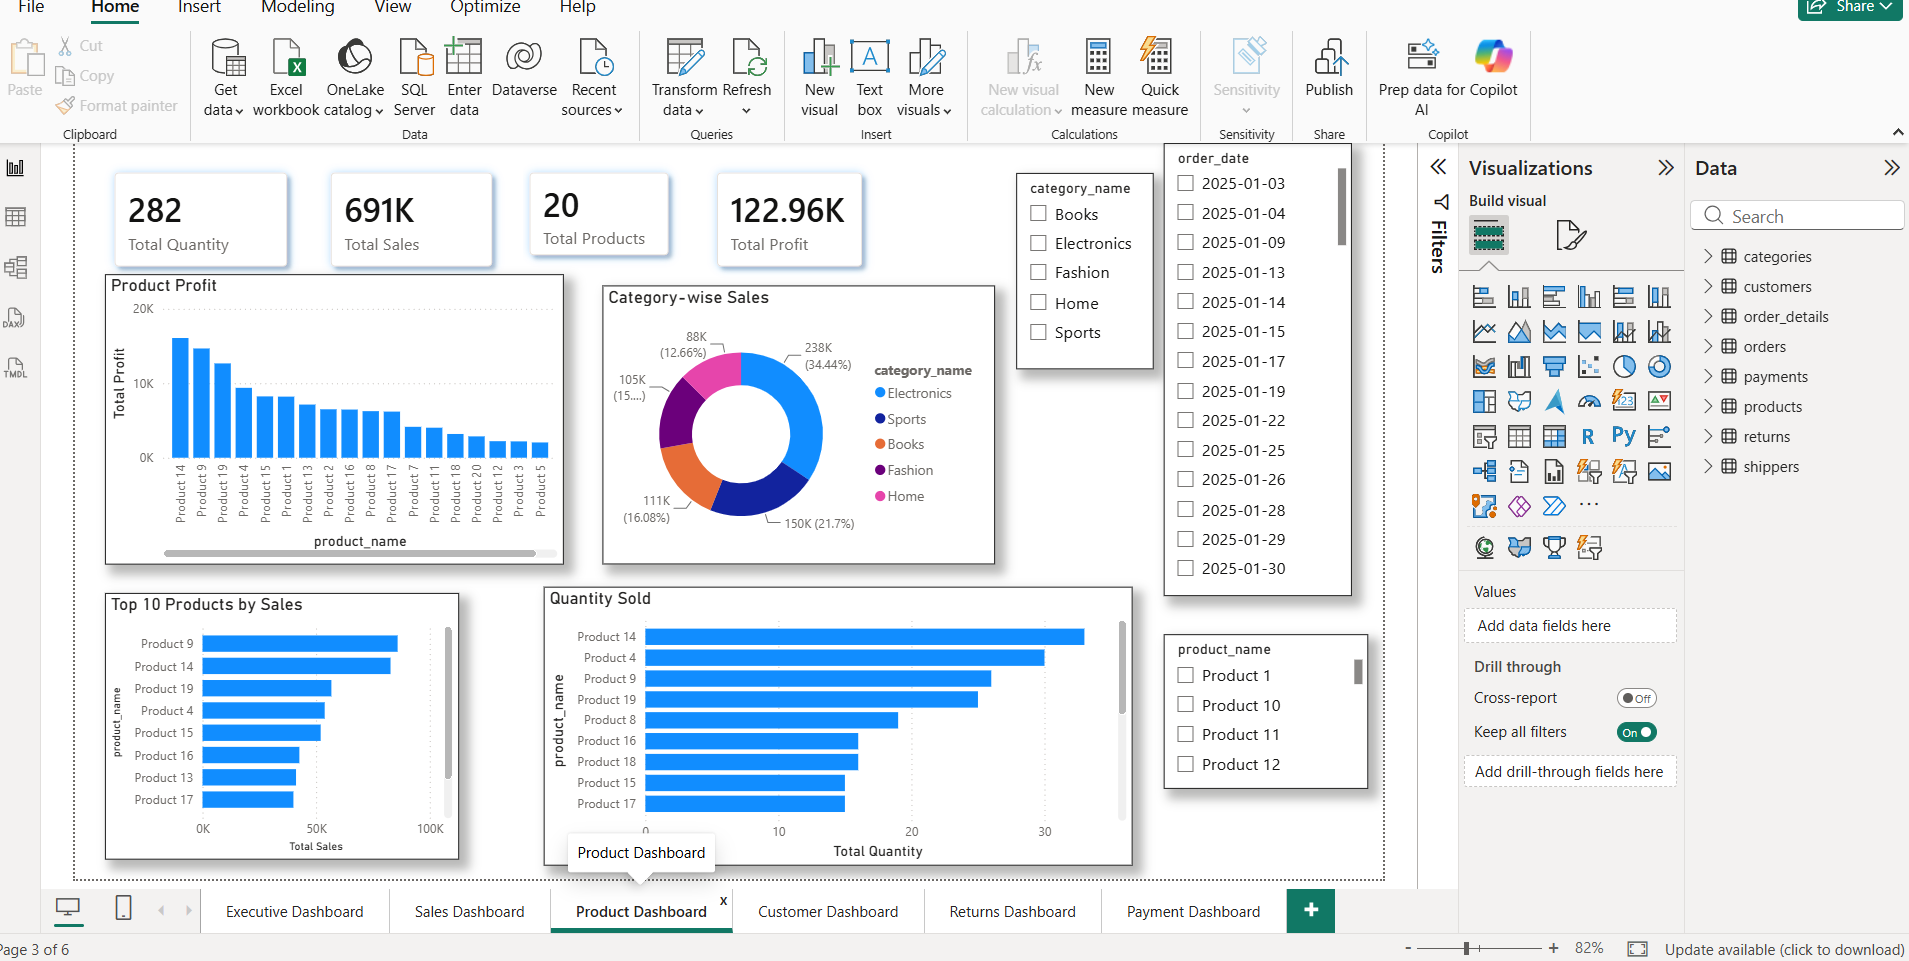

The dashboard page shown, as its layout file describes it:
{"tool":"powerbi","page":{"name":"Product Dashboard","canvas":[1280,720],"ordinal":2},"visuals":[{"type":"cardVisual","fields":{"Data":["categories.Total Quantity"]},"box":[9.6,0,227.8,150.9],"z":0},{"type":"cardVisual","fields":{"Data":["categories.Total Profit"]},"box":[599.7,0,200.3,150.9],"z":1000},{"type":"cardVisual","fields":{"Data":["categories.Total Products"]},"box":[415.8,0,194.9,140],"z":2000},{"type":"cardVisual","fields":{"Data":["categories.Total Sales"]},"box":[220.9,0,216.8,150.9],"z":3000},{"type":"clusteredBarChart","title":"Top 10 Products by Sales","fields":{"Category":["products.product_name"],"Y":["categories.Total Sales"]},"box":[29.3,440.2,346.1,260.5],"z":4000},{"type":"clusteredColumnChart","title":"Product Profit","fields":{"Category":["products.product_name"],"Y":["categories.Total Profit"]},"box":[29.3,128.4,448.8,283.7],"z":5000},{"type":"barChart","title":"Quantity Sold","fields":{"Category":["products.product_name"],"Y":["categories.Total Quantity"]},"box":[458.3,433.6,576.3,273.1],"z":6000},{"type":"donutChart","title":"Category-wise Sales","fields":{"Category":["categories.category_name"],"Y":["categories.Total Sales"]},"box":[516,139.4,384,272.7],"z":7000},{"type":"slicer","fields":{"Values":["categories.category_name"]},"box":[920.8,29.3,134.5,192],"z":8000},{"type":"slicer","fields":{"Values":["products.product_name"]},"box":[1064.8,480.3,200.3,150.9],"z":9000},{"type":"slicer","fields":{"Values":["orders.order_date"]},"box":[1064.8,0,183.9,443.2],"z":10000}]}

Visuals, with their boxes on the page's 1280x720 design canvas (x1, y1, x2, y2). These are canvas units, not pixel positions in the 1909x961 screenshot, which may show the page scaled, cropped or inside an application window:
cardVisual - categories.Total Quantity: 10, 0, 237, 151
cardVisual - categories.Total Profit: 600, 0, 800, 151
cardVisual - categories.Total Products: 416, 0, 611, 140
cardVisual - categories.Total Sales: 221, 0, 438, 151
"Top 10 Products by Sales" clusteredBarChart: 29, 440, 375, 701
"Product Profit" clusteredColumnChart: 29, 128, 478, 412
"Quantity Sold" barChart: 458, 434, 1035, 707
"Category-wise Sales" donutChart: 516, 139, 900, 412
slicer - categories.category_name: 921, 29, 1055, 221
slicer - products.product_name: 1065, 480, 1265, 631
slicer - orders.order_date: 1065, 0, 1249, 443
